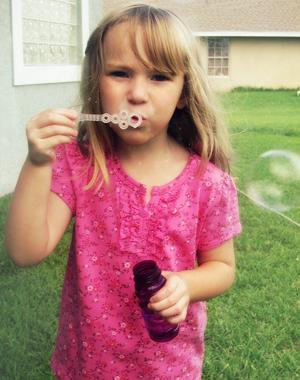person: (5, 7, 241, 374)
